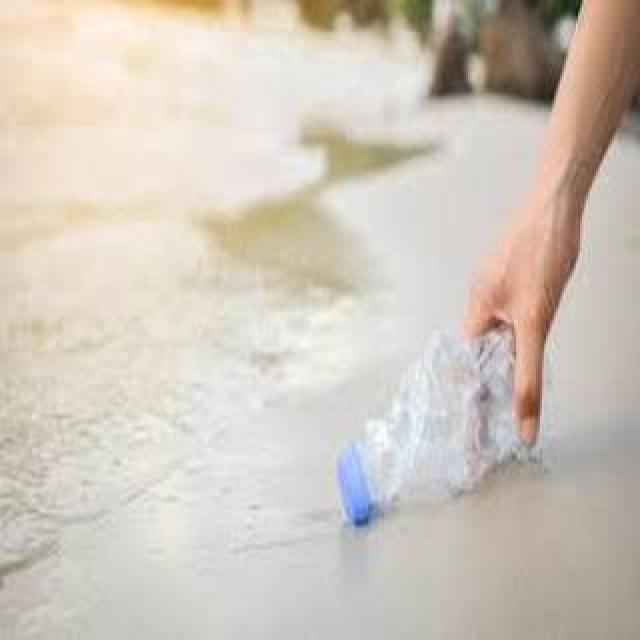Pet_Bottle: (332, 320, 504, 530)
